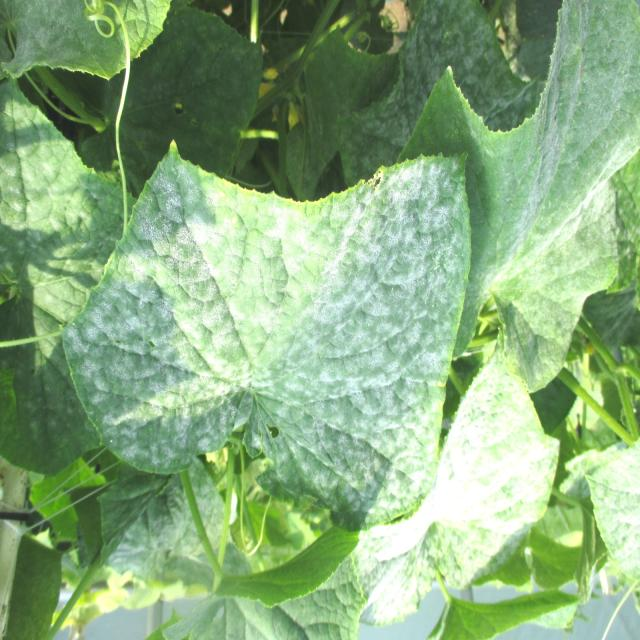Powdery Mildew: (61, 137, 473, 528)
